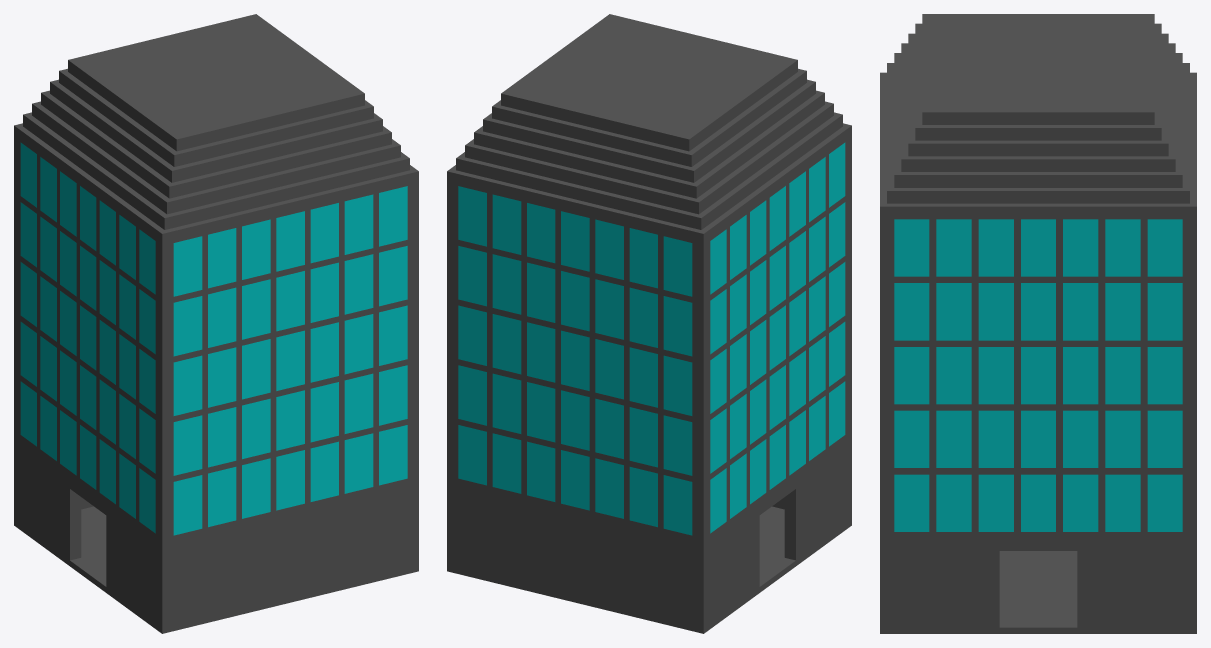
The model's file is little-tower-2-open.obj.
The picture shows the model from 3 angles, left to right: view 1: azimuth 30°, elevation 25°; view 2: azimuth 150°, elevation 25°; view 3: azimuth 270°, elevation 25°; orthographic projection. The views are drawn at different scales.
Bounding box in the file's own units: 45 × 79 × 45.
1 material, 1 textured.
